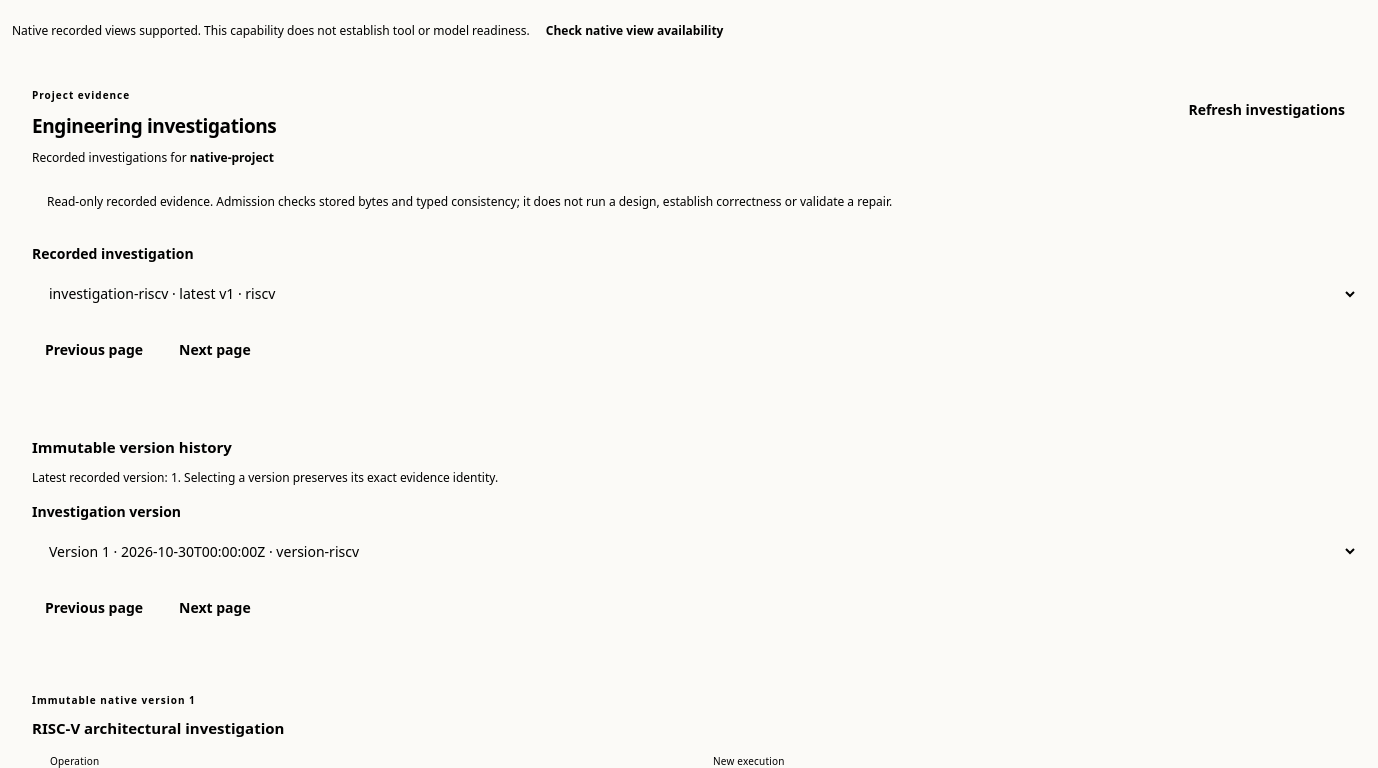
Scenario: hides stale native records on artifact409 and retries explicitly
Expected: the heading "RISC-V architectural investigation" is shown, top-left (32, 718), bottom-right (284, 738)
Click the button "Refresh investigations".
click(1267, 110)  # box top-left (1175, 88), bottom-right (1358, 132)
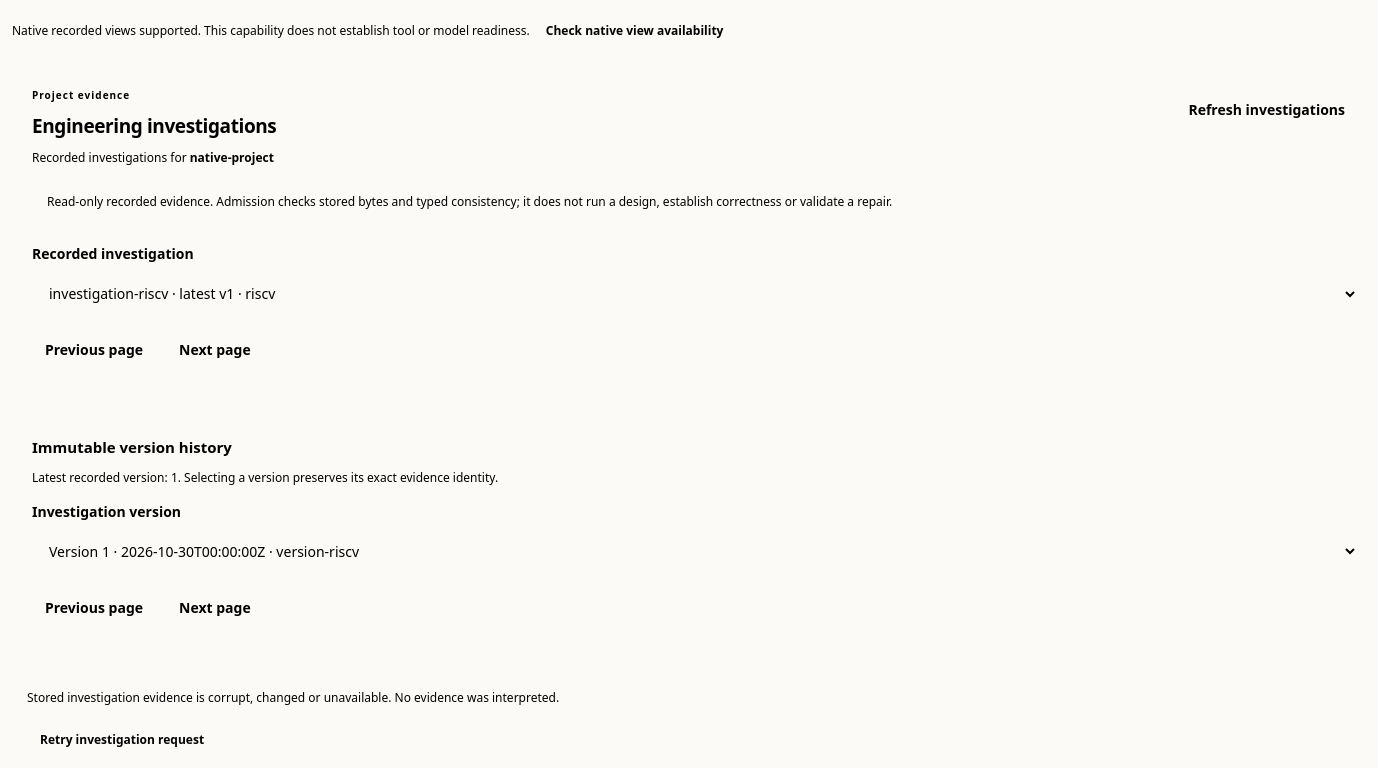
Now the message is shown, box top-left (27, 689), bottom-right (559, 762)
Now the heading "RISC-V architectural investigation" is gone
Click the button "Retry investigation request".
click(122, 740)  # box top-left (27, 718), bottom-right (217, 762)
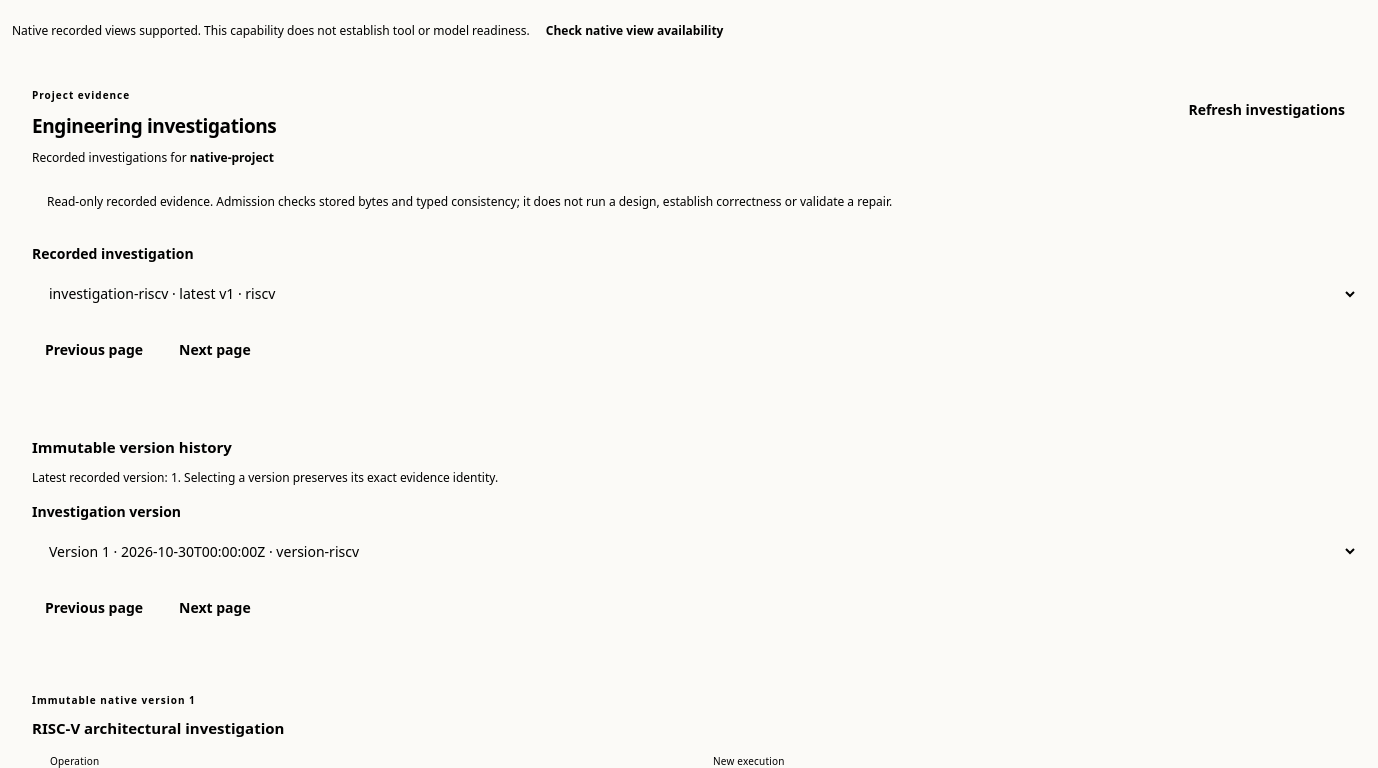
Now the heading "RISC-V architectural investigation" is shown, box top-left (32, 718), bottom-right (284, 738)
